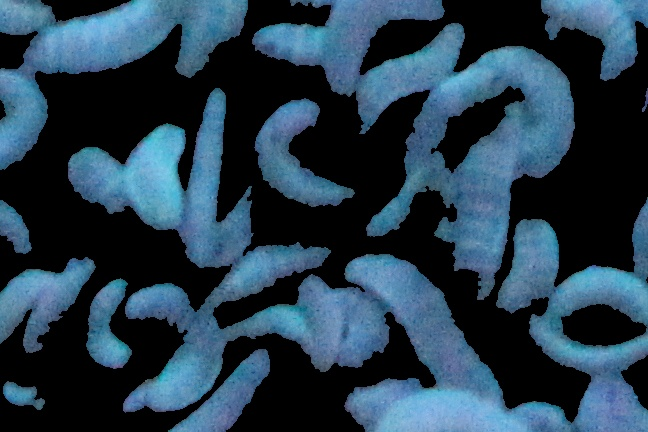larvae: (339, 250, 506, 400), (449, 46, 578, 182), (253, 93, 358, 206), (446, 121, 514, 293), (324, 1, 439, 100), (352, 18, 465, 105), (142, 286, 224, 403), (175, 343, 277, 430), (31, 1, 171, 64), (24, 253, 85, 396), (549, 252, 648, 331), (364, 382, 517, 432), (1, 64, 71, 168), (528, 312, 648, 372), (186, 85, 234, 231), (127, 125, 189, 235), (546, 1, 636, 76), (314, 278, 392, 364), (206, 243, 329, 292), (508, 208, 565, 312), (66, 144, 138, 215), (173, 1, 229, 87), (187, 202, 262, 265), (224, 301, 317, 351), (1, 269, 52, 351), (85, 276, 129, 369), (249, 18, 327, 68), (1, 1, 67, 32)
